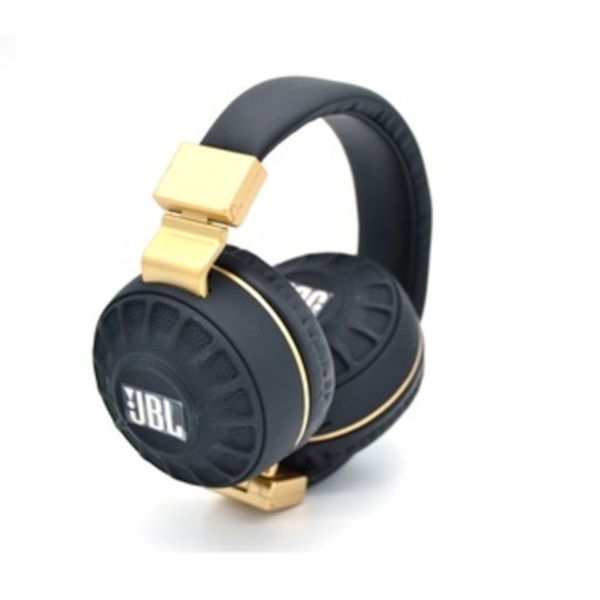Headphone: (82, 69, 443, 520)
